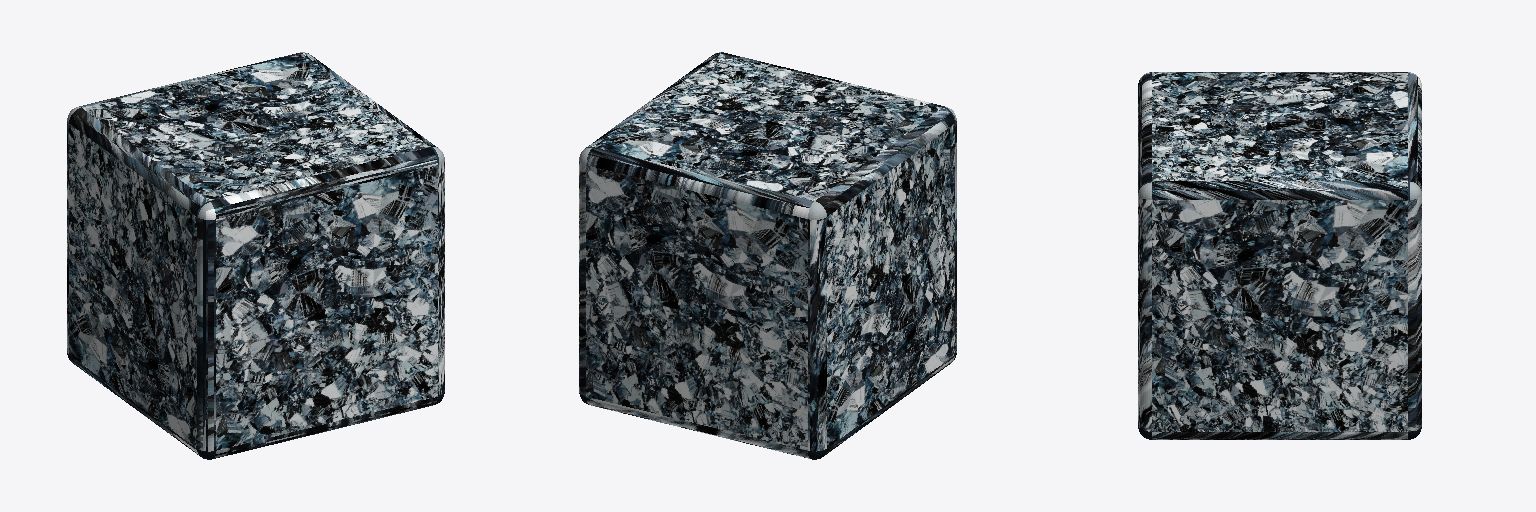
3 views of the same model, side by side, from view 1: azimuth 30°, elevation 25°; view 2: azimuth 150°, elevation 25°; view 3: azimuth 270°, elevation 25° (orthographic).
Parts seen in each view (by area): view 1: Cube; view 2: Cube; view 3: Cube.
Part boxes in pixels (bbox=[...]): Cube: bbox=[67, 52, 444, 459]; Cube: bbox=[579, 52, 956, 459]; Cube: bbox=[1138, 72, 1421, 439].
Bounding box in the file's own units: 2 × 2 × 2.
1 materials, 1 textured.